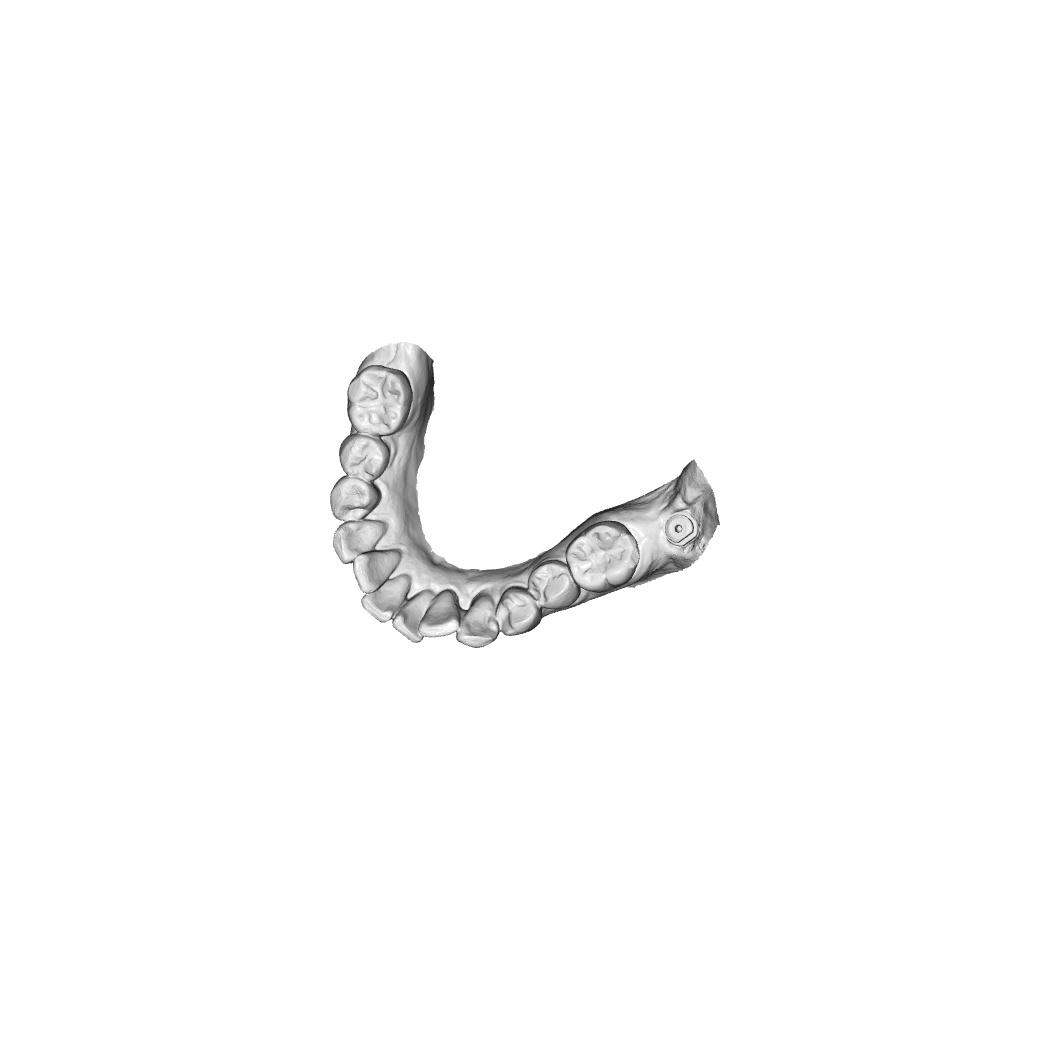canine: (332, 519, 389, 566), (456, 592, 500, 650)
implant: (664, 512, 700, 549)
incisor: (360, 573, 413, 624), (392, 589, 435, 645), (418, 588, 462, 638), (352, 550, 399, 595)
molar: (564, 519, 641, 594), (345, 364, 414, 437)
premolar: (526, 559, 582, 610), (338, 432, 391, 483), (328, 475, 382, 523), (495, 586, 543, 637)
